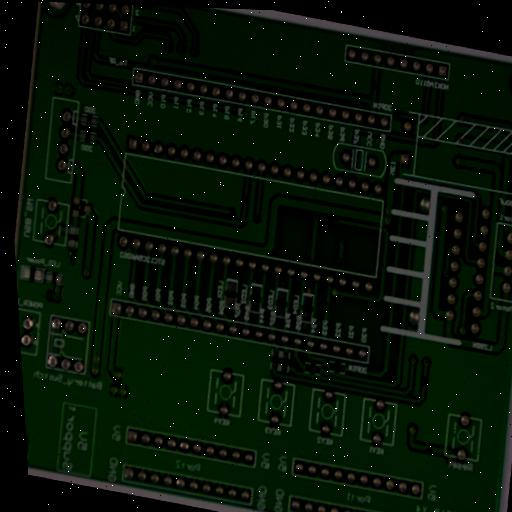mouse_bite: (369, 75, 380, 95), (418, 371, 429, 389), (320, 299, 331, 315), (240, 192, 250, 208), (422, 444, 436, 455)
